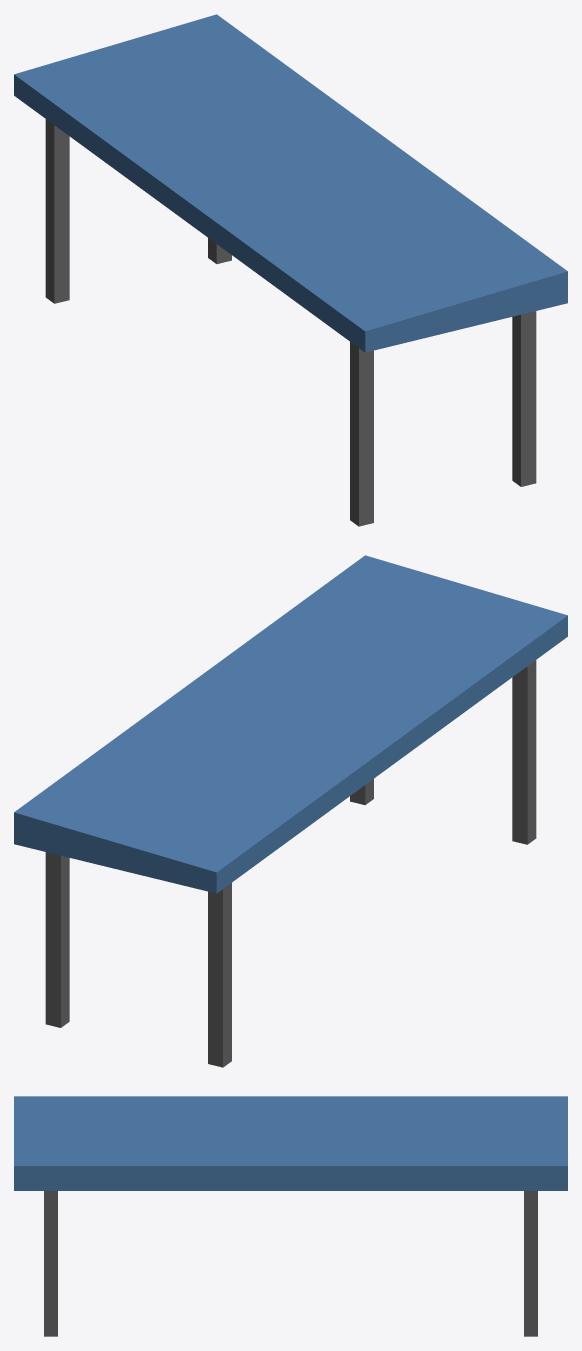
The model's file is platform-roof.glb.
The picture shows the model from 3 angles, top to bottom: view 1: azimuth 30°, elevation 25°; view 2: azimuth 150°, elevation 25°; view 3: azimuth 270°, elevation 25°; orthographic projection. The views are drawn at different scales.
Visible parts, largest first — view 1: platform-roof; view 2: platform-roof; view 3: platform-roof.
Part boxes in pixels (bbox=[...]): platform-roof: bbox=[14, 14, 567, 526]; platform-roof: bbox=[14, 555, 567, 1067]; platform-roof: bbox=[14, 1096, 567, 1336].
Size of the model in its own units: 4 by 4.2 by 12.
